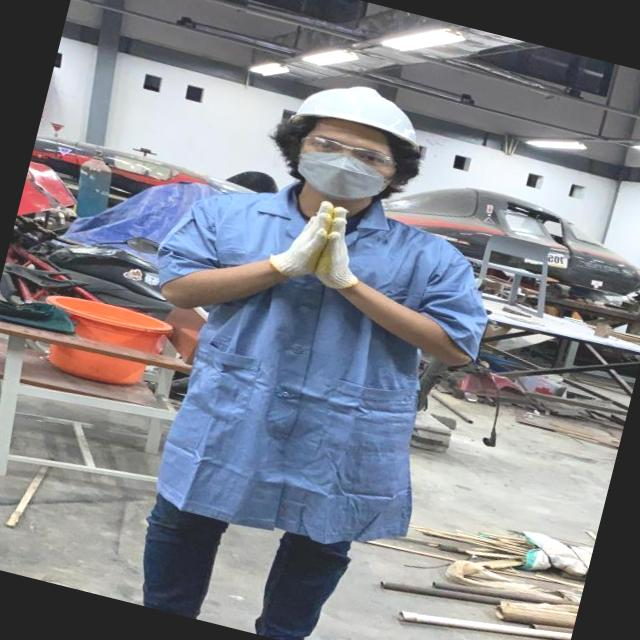gloves: (263, 187, 378, 304)
helmet: (280, 66, 439, 160)
no-vest: (134, 139, 475, 586)
